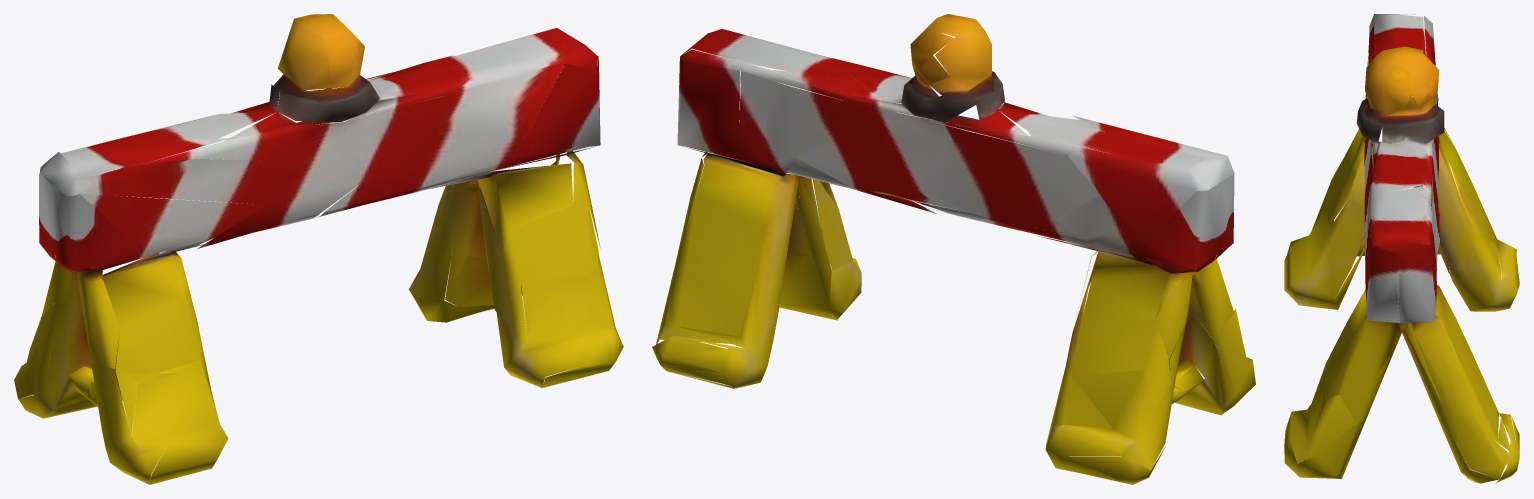
File: norika_barricade.glb
3 views of the same model, side by side, from view 1: azimuth 30°, elevation 25°; view 2: azimuth 150°, elevation 25°; view 3: azimuth 270°, elevation 25° (orthographic). The views are drawn at different scales.
Visible parts, largest first — view 1: barricade; view 2: barricade; view 3: barricade.
Part boxes in pixels (x1,y1,x2,y2): barricade: [14, 14, 623, 484]; barricade: [652, 14, 1255, 484]; barricade: [1284, 14, 1519, 483].
Bounding box in the file's own units: 0.78 × 0.5213 × 0.3342.
1 material, 1 textured.
